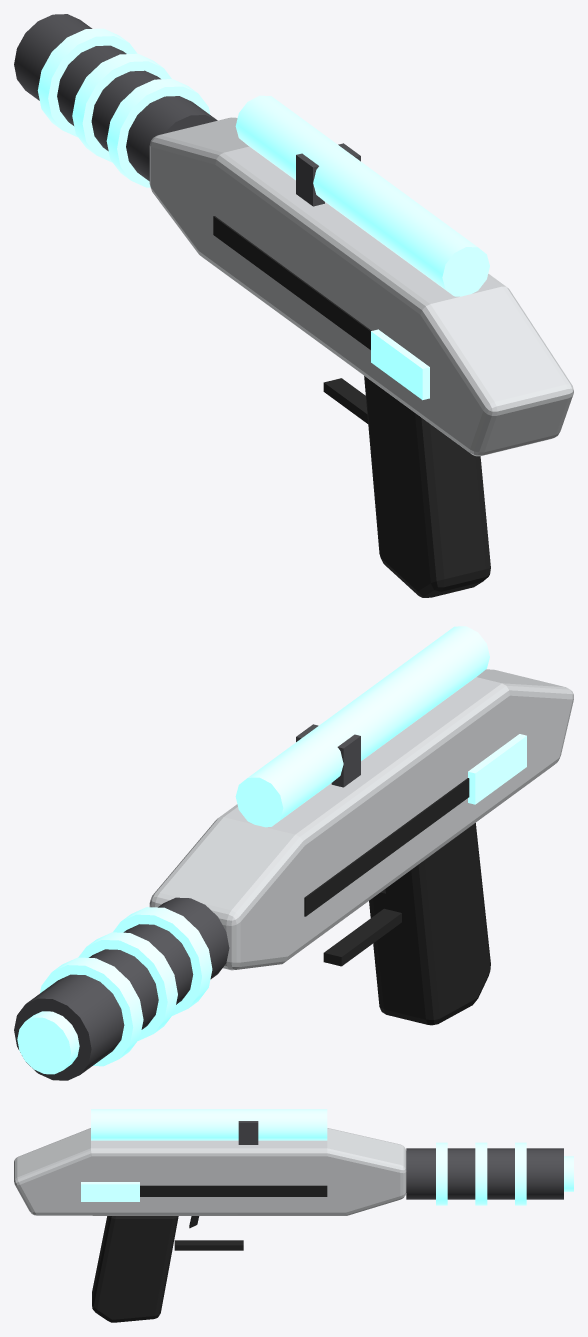
Rendered from laser.glb.
The picture shows the model from 3 angles, top to bottom: view 1: azimuth 30°, elevation 25°; view 2: azimuth 150°, elevation 25°; view 3: azimuth 270°, elevation 25°; orthographic projection. The views are drawn at different scales.
Parts seen in each view (by area): view 1: Laser_Body; view 2: Laser_Body; view 3: Laser_Body.
Boxes of the visible parts, x1=… form: Laser_Body: x1=14, y1=14, x2=573, y2=597; Laser_Body: x1=14, y1=626, x2=573, y2=1080; Laser_Body: x1=14, y1=1109, x2=573, y2=1322.
Bounding box in the file's own units: 0.07 × 0.2304 × 0.5679.
